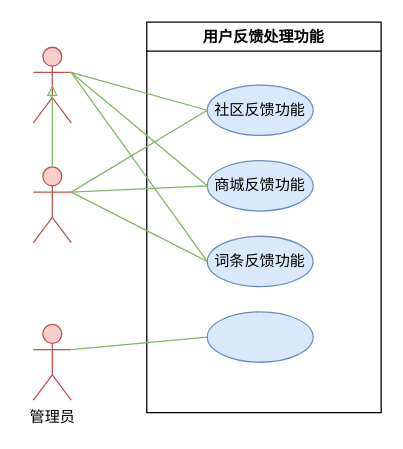
The diagram is 403 pixels wide and 449 high, and some of its shapes have lost their labels. The centre of each missing label's shape, as x and y in pixels:
商家: the point at 51,204
处理反馈功能: the point at 259,336
普通用户: the point at 51,84
